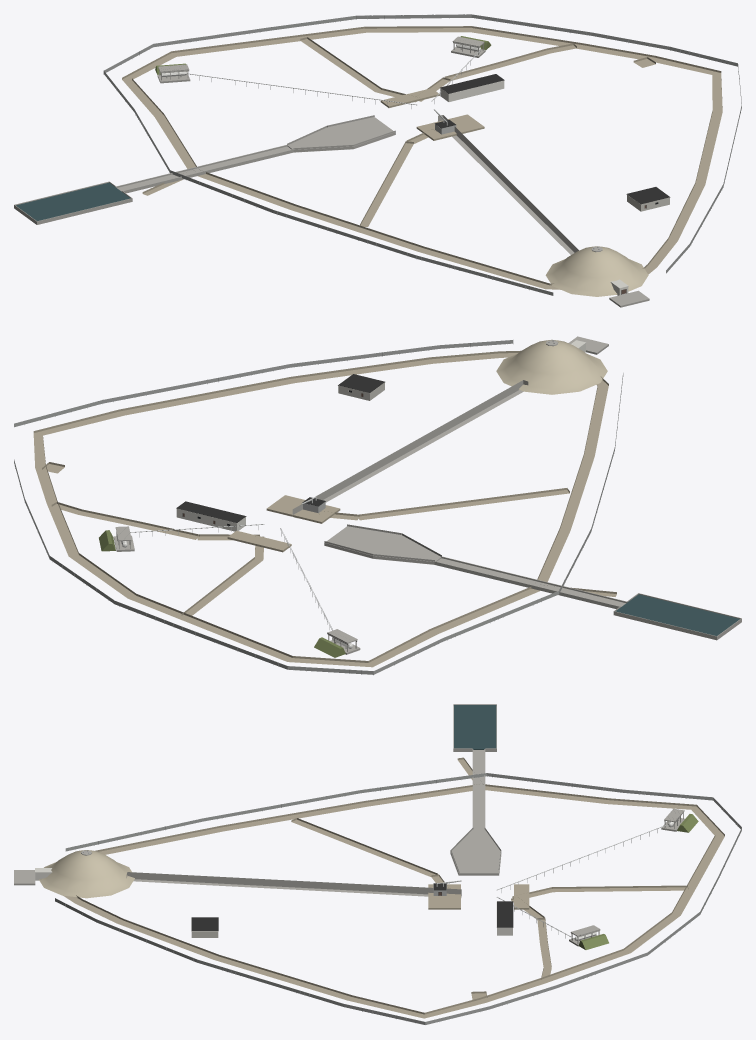
3 views of the same model, one above another, from view 1: azimuth 30°, elevation 25°; view 2: azimuth 150°, elevation 25°; view 3: azimuth 270°, elevation 25° (orthographic). The views are drawn at different scales.
Parts seen in each view (by area): view 1: Roads_Shell, Fence_Mesh, Blockhouse_Sand, Flume_Concrete, Flume_ConcreteKerbs, Flume_Water, Cableway_Concrete, SupportBuilding_WhiteAnnex, SupportBuilding_Tar; view 2: Roads_Shell, Fence_Mesh, Blockhouse_Sand, Flume_Concrete, Flume_ConcreteKerbs, Cableway_Concrete, Flume_Water, SupportBuilding_WhiteAnnex, SupportBuilding_Tar, Fence_Galv; view 3: Roads_Shell, Fence_Mesh, Blockhouse_Sand, Cableway_Concrete, Flume_Concrete, Flume_Water, Flume_ConcreteKerbs.
Boxes of the visible parts, left/top/right/bottom form: Roads_Shell: left=122, top=26, right=722, bottom=289; Fence_Mesh: left=104, top=14, right=741, bottom=295; Blockhouse_Sand: left=545, top=246, right=648, bottom=296; Flume_Concrete: left=117, top=117, right=395, bottom=191; Flume_ConcreteKerbs: left=14, top=115, right=395, bottom=224; Flume_Water: left=16, top=182, right=130, bottom=221; Cableway_Concrete: left=438, top=115, right=578, bottom=254; SupportBuilding_WhiteAnnex: left=440, top=81, right=504, bottom=101; SupportBuilding_Tar: left=440, top=74, right=504, bottom=93; Roads_Shell: left=33, top=350, right=616, bottom=667; Fence_Mesh: left=14, top=340, right=623, bottom=674; Blockhouse_Sand: left=496, top=339, right=607, bottom=394; Flume_Concrete: left=324, top=526, right=625, bottom=606; Flume_ConcreteKerbs: left=324, top=524, right=741, bottom=640; Cableway_Concrete: left=292, top=380, right=528, bottom=518; Flume_Water: left=615, top=594, right=739, bottom=635; SupportBuilding_WhiteAnnex: left=176, top=509, right=245, bottom=531; SupportBuilding_Tar: left=176, top=501, right=246, bottom=522; Fence_Galv: left=14, top=340, right=623, bottom=675; Roads_Shell: left=40, top=757, right=724, bottom=1018; Fence_Mesh: left=55, top=773, right=741, bottom=1024; Blockhouse_Sand: left=39, top=850, right=134, bottom=898; Cableway_Concrete: left=126, top=872, right=461, bottom=897; Flume_Concrete: left=451, top=706, right=500, bottom=875; Flume_Water: left=454, top=705, right=496, bottom=749; Flume_ConcreteKerbs: left=450, top=704, right=501, bottom=875.
Bounding box in the file's own units: 431 × 17.07 × 416.
